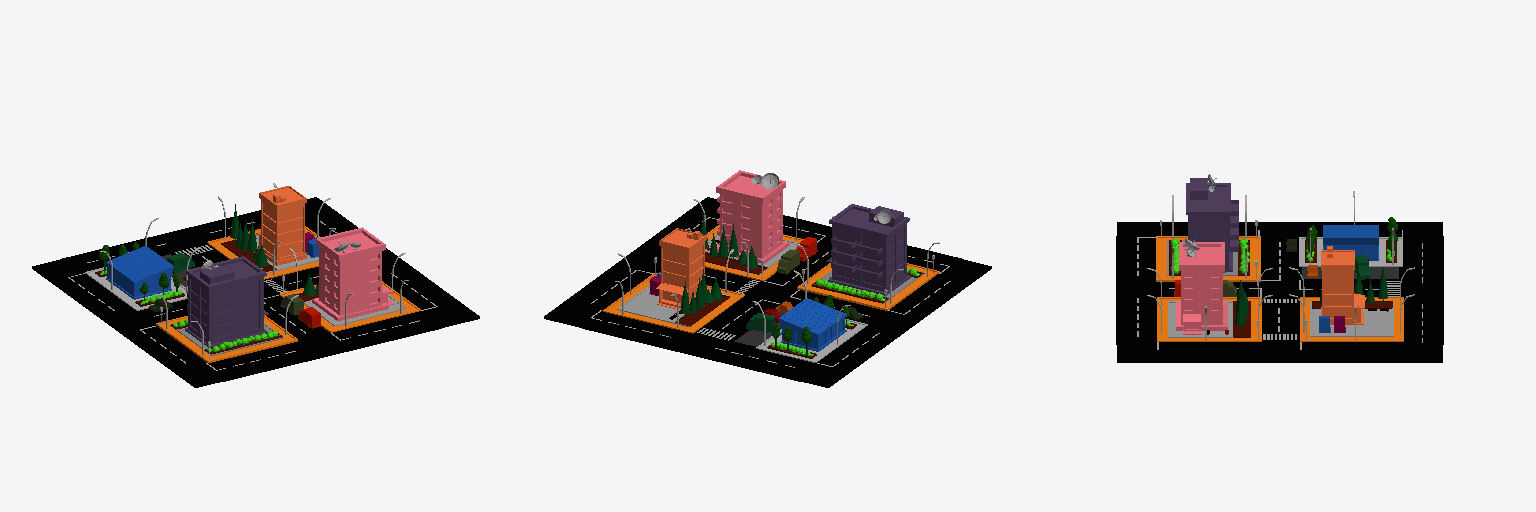
The model's file is small_town.obj.
3 renders of one model, left to right at view 1: azimuth 30°, elevation 25°; view 2: azimuth 150°, elevation 25°; view 3: azimuth 270°, elevation 25°, orthographic.
Parts seen in each view (by area): view 1: ROAD_Mesh.097, House_Mesh.034, House_2_Mesh.039, House_3_Mesh.074, Shop_Mesh.075, Floor_Mesh.029, Floor_2_Mesh.045, Floor_4_4_Mesh.081, Floor_3_Mesh.064, ROAD_Lines_12_Mesh.101, Floor_4_2_Mesh.044; view 2: ROAD_Mesh.097, House_Mesh.034, House_2_Mesh.039, House_3_Mesh.074, Shop_Mesh.075, Floor_3_Mesh.064, Floor_Mesh.029, Floor_4_3_Mesh.063, Floor_4_4_Mesh.081, ROAD_Lines_12_Mesh.101, Floor_2_Mesh.045; view 3: ROAD_Mesh.097, House_2_Mesh.039, House_Mesh.034, House_3_Mesh.074, Shop_Mesh.075, Floor_4_3_Mesh.063, Floor_2_Mesh.045, Floor_3_Mesh.064, Floor_Mesh.029, Floor_4_4_Mesh.081, Floor_4_2_Mesh.044, ROAD_Lines_12_Mesh.101.
Part boxes in pixels (x1,y1,x2,y2): ROAD_Mesh.097: (32, 197, 479, 387); House_Mesh.034: (185, 256, 268, 347); House_2_Mesh.039: (312, 227, 393, 320); House_3_Mesh.074: (256, 186, 306, 265); Shop_Mesh.075: (106, 246, 173, 299); Floor_Mesh.029: (156, 315, 297, 362); Floor_2_Mesh.045: (279, 281, 420, 332); Floor_4_4_Mesh.081: (85, 267, 187, 310); Floor_3_Mesh.064: (207, 226, 320, 279); ROAD_Lines_12_Mesh.101: (68, 221, 437, 370); Floor_4_2_Mesh.044: (304, 294, 406, 325); ROAD_Mesh.097: (544, 197, 991, 387); House_Mesh.034: (826, 204, 910, 295); House_2_Mesh.039: (716, 170, 789, 263); House_3_Mesh.074: (656, 228, 706, 309); Shop_Mesh.075: (779, 298, 846, 351); Floor_3_Mesh.064: (603, 273, 744, 333); Floor_Mesh.029: (797, 263, 939, 310); Floor_4_3_Mesh.063: (617, 285, 730, 326); Floor_4_4_Mesh.081: (756, 319, 867, 362); ROAD_Lines_12_Mesh.101: (591, 217, 950, 367); Floor_2_Mesh.045: (705, 225, 803, 280); ROAD_Mesh.097: (1116, 222, 1443, 362); House_2_Mesh.039: (1176, 242, 1227, 334); House_Mesh.034: (1186, 178, 1238, 272); House_3_Mesh.074: (1321, 246, 1364, 324); Shop_Mesh.075: (1323, 225, 1378, 260); Floor_4_3_Mesh.063: (1310, 301, 1393, 336); Floor_2_Mesh.045: (1157, 297, 1261, 341); Floor_3_Mesh.064: (1300, 297, 1403, 341); Floor_Mesh.029: (1156, 236, 1260, 281); Floor_4_4_Mesh.081: (1299, 237, 1402, 266); Floor_4_2_Mesh.044: (1168, 301, 1233, 337); ROAD_Lines_12_Mesh.101: (1137, 230, 1422, 349).
Size of the model in its own units: 21.92 by 6.09 by 21.92.